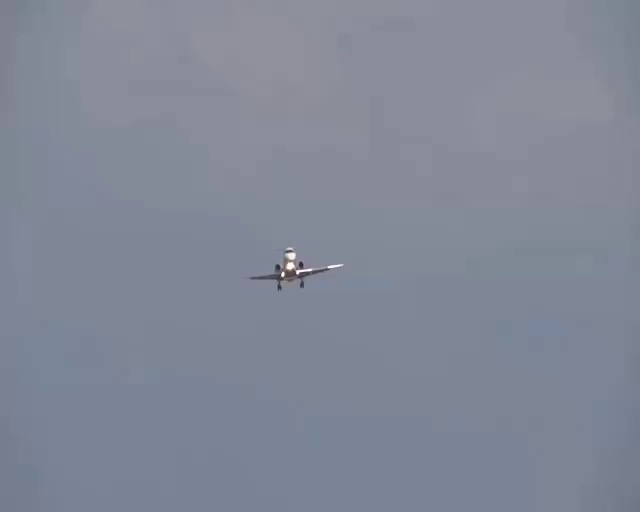AIRPLANE: (245, 247, 344, 291)
